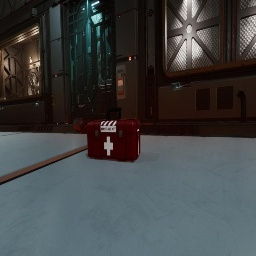EmergencyPhone ,: (51, 92, 55, 105)
FirstAidBox ,: (87, 107, 140, 162)
NitrogenTank ,: (73, 118, 89, 134)
SafetySwitchPanel ,: (116, 64, 127, 100)
